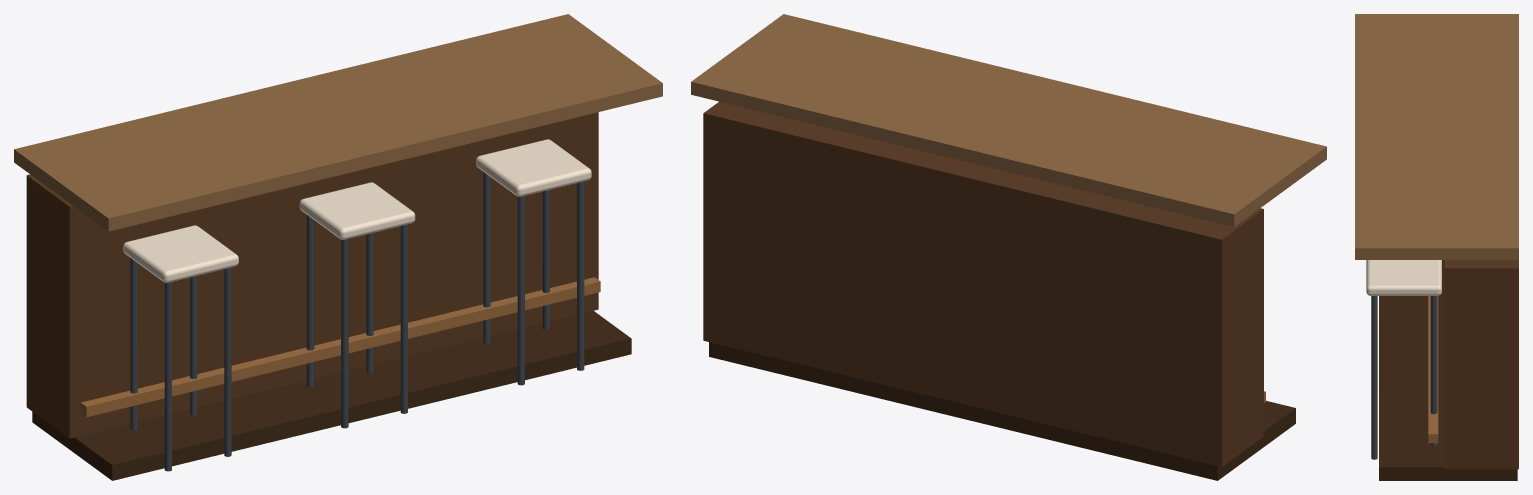
Rendered from bar-lite.glb.
The picture shows the model from 3 angles, left to right: view 1: azimuth 30°, elevation 25°; view 2: azimuth 150°, elevation 25°; view 3: azimuth 270°, elevation 25°; orthographic projection. The views are drawn at different scales.
Parts seen in each view (by area): view 1: material-1-body, material-0-top, material-2-base, material-4-leg, material-5-cushion, material-3-trim; view 2: material-1-body, material-0-top, material-2-base; view 3: material-0-top, material-1-body, material-2-base, material-5-cushion, material-4-leg, material-3-trim.
Part boxes in pixels (box(x1,y1,x2,y2)): material-1-body: box(26, 112, 598, 438); material-0-top: box(14, 14, 662, 231); material-2-base: box(32, 311, 631, 480); material-4-leg: box(130, 172, 584, 471); material-5-cushion: box(123, 139, 591, 282); material-3-trim: box(80, 277, 600, 417); material-1-body: box(703, 101, 1263, 466); material-0-top: box(691, 14, 1326, 226); material-2-base: box(709, 342, 1295, 480); material-0-top: box(1355, 14, 1518, 259); material-1-body: box(1444, 260, 1518, 469); material-2-base: box(1379, 260, 1517, 480); material-5-cushion: box(1366, 260, 1441, 295); material-4-leg: box(1371, 296, 1437, 459); material-3-trim: box(1428, 296, 1438, 443).
Bounding box in the file's own units: 2.2 × 1.05 × 0.65.
